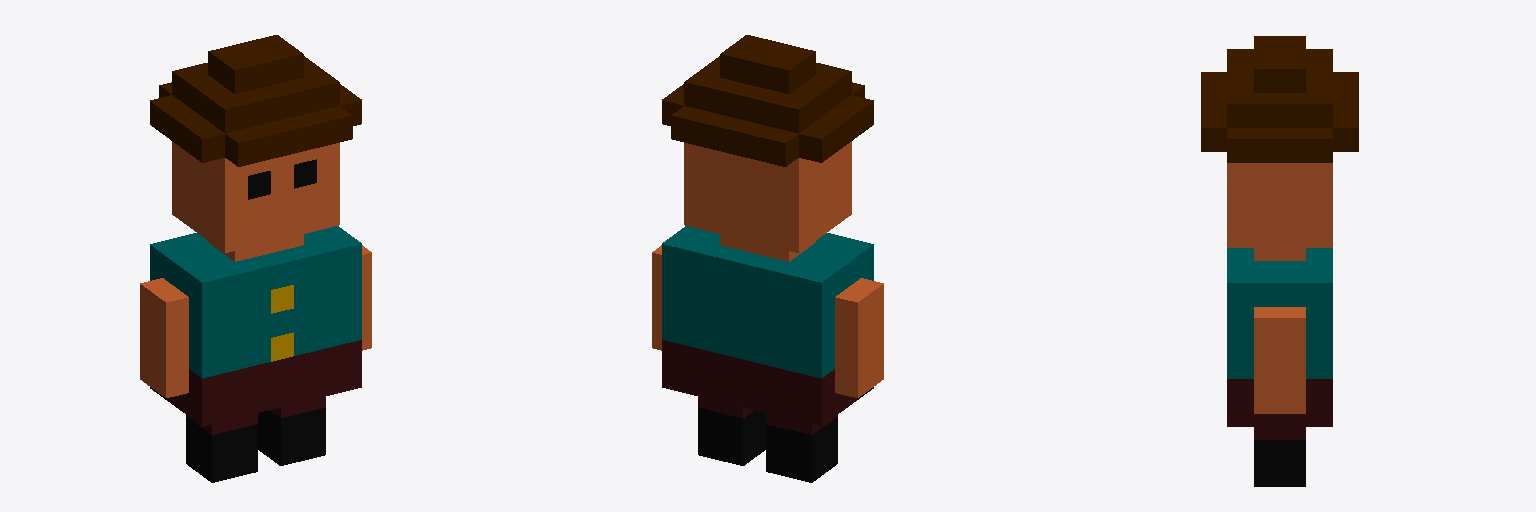
3 views of the same model, side by side, from view 1: azimuth 30°, elevation 25°; view 2: azimuth 150°, elevation 25°; view 3: azimuth 270°, elevation 25° (orthographic).
Visible parts, largest first — view 1: customer_man; view 2: customer_man; view 3: customer_man.
Part boxes in pixels (x1,y1,x2,y2): customer_man: (140, 35, 371, 482); customer_man: (652, 35, 883, 482); customer_man: (1201, 36, 1358, 486).
Size of the model in its own units: 9 by 17 by 6.
Materials: 1 (1 with a texture image).